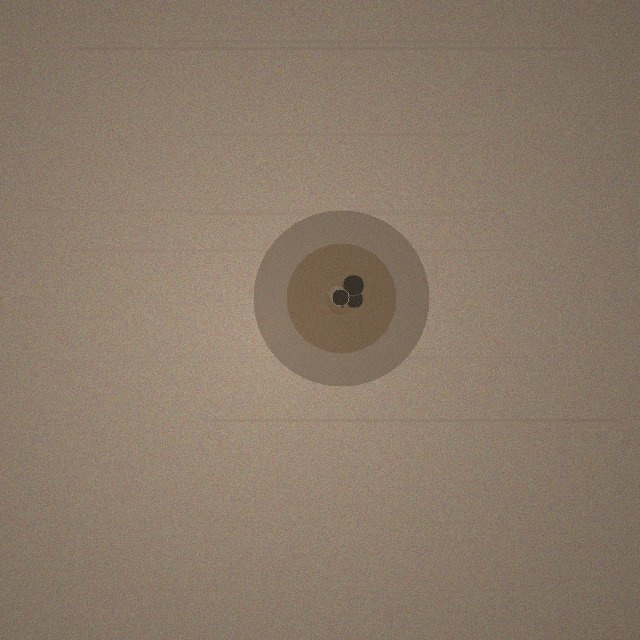shrinkage: (253, 210, 429, 386)
